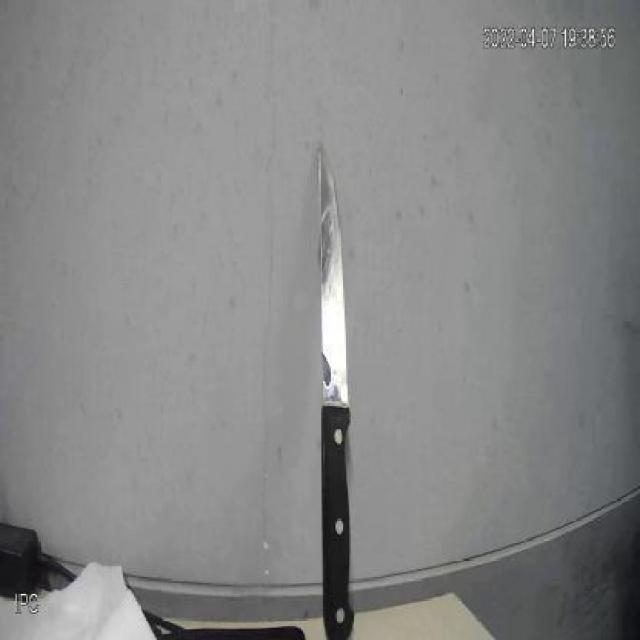-: (298, 126, 380, 637)
